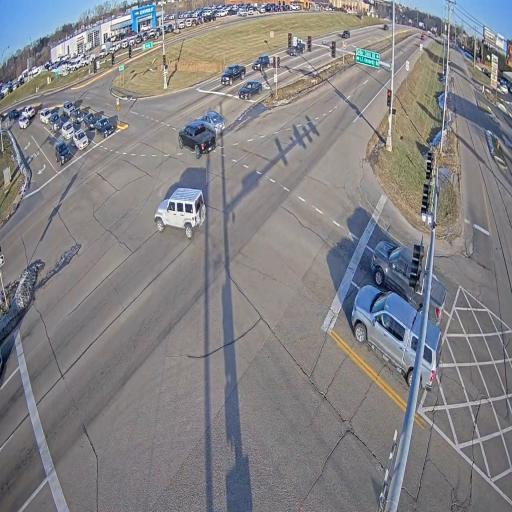pickup: (371, 240, 425, 311), (178, 121, 216, 158), (428, 274, 446, 325), (220, 64, 245, 85), (289, 39, 305, 56), (49, 112, 62, 132), (22, 105, 35, 119), (9, 109, 19, 119), (341, 30, 350, 38), (383, 24, 389, 30)
sedan: (197, 111, 226, 135), (238, 80, 262, 100), (95, 118, 115, 138), (73, 129, 89, 150), (70, 108, 85, 125), (61, 121, 75, 139), (83, 112, 97, 130)
suv: (351, 284, 423, 387), (155, 188, 206, 239), (420, 320, 441, 390), (55, 140, 70, 166), (252, 55, 270, 73), (63, 101, 75, 117), (40, 108, 51, 124), (19, 116, 29, 128), (421, 35, 424, 39)
